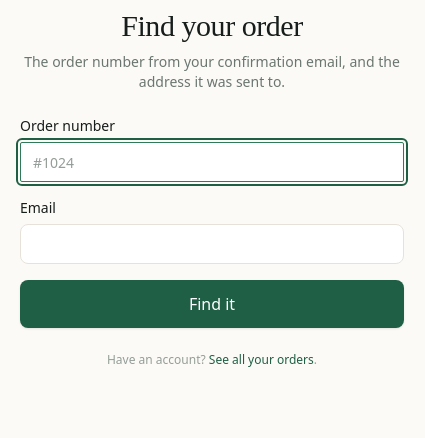
Test: OrderLookupPage › repeats the server’s single answer for every failure
Type "#9999" into the field labelled "Order number" at x=212, y=162, box x1=20 y1=142 x2=404 y2=182
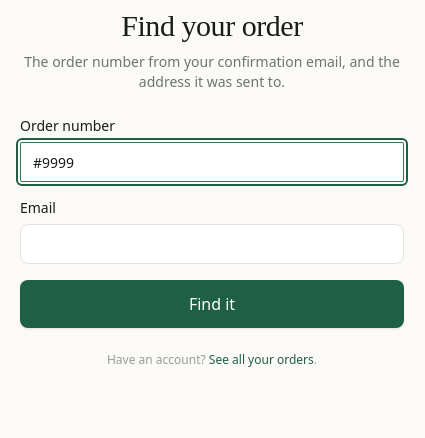
Type "someone@example.test" into the field labelled "Email" at x=212, y=244, box x1=20 y1=224 x2=404 y2=264
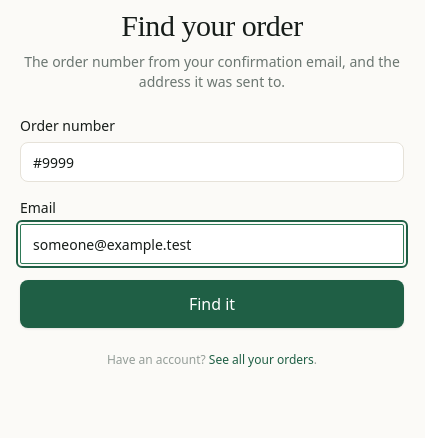
Click the button "Find it" at x=212, y=304, box x1=20 y1=280 x2=404 y2=328
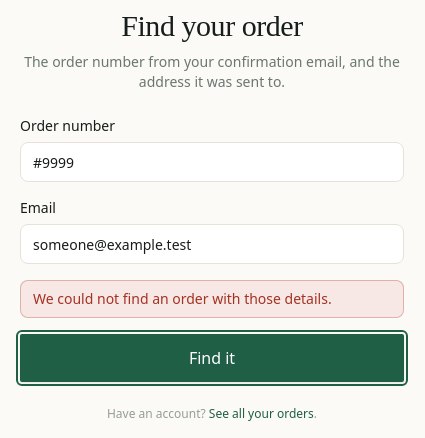
Now the text "We could not find an order with those details." is shown, box x1=20 y1=280 x2=404 y2=318
